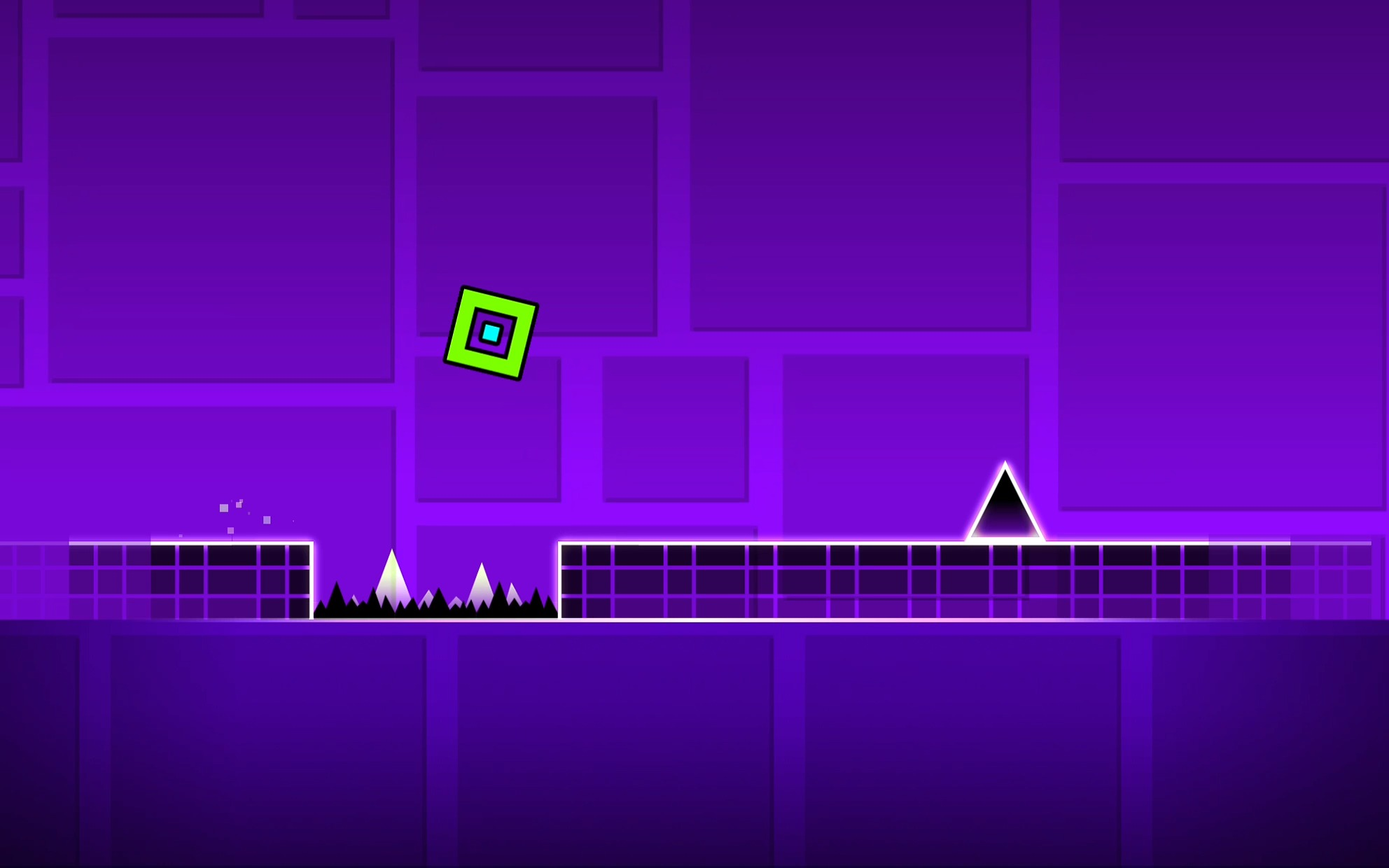Block2: (563, 543, 1384, 616), (0, 539, 308, 615)
Player: (443, 285, 538, 379)
Spike: (968, 470, 1039, 538)
Spike3: (308, 577, 553, 619)
